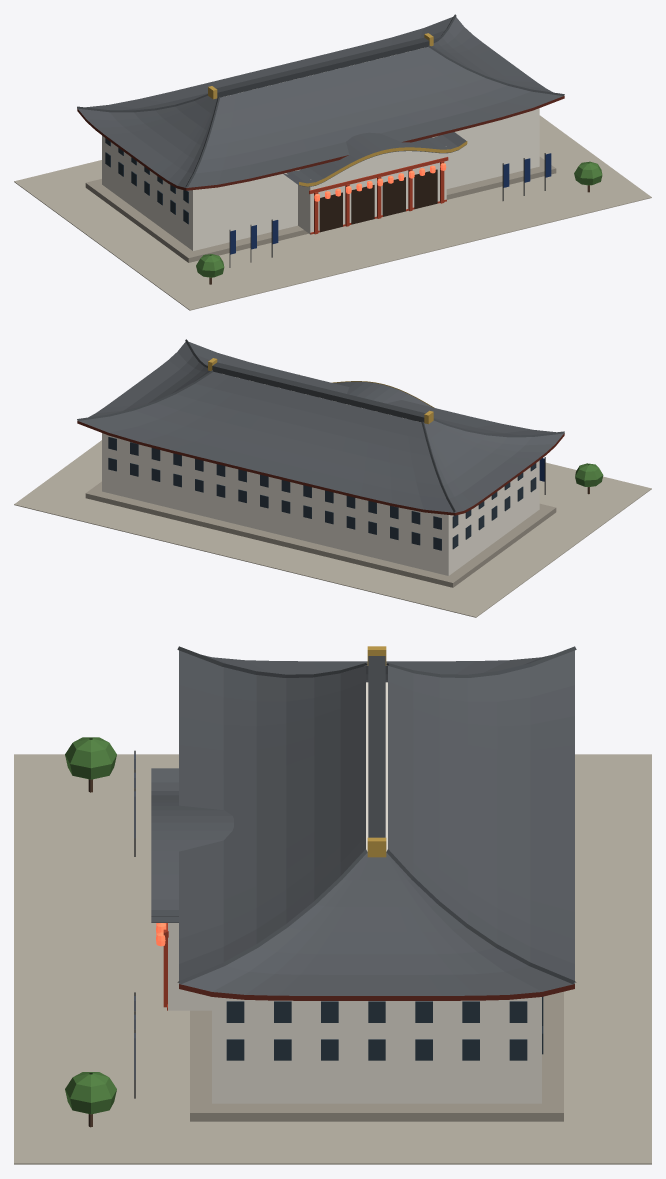
Rendered from kabukiza.glb.
The picture shows the model from 3 angles, top to bottom: view 1: azimuth 30°, elevation 25°; view 2: azimuth 150°, elevation 25°; view 3: azimuth 270°, elevation 25°; orthographic projection. The views are drawn at different scales.
Visible parts, largest first — view 1: Kabukiza_static; view 2: Kabukiza_static; view 3: Kabukiza_static.
Part boxes in pixels (x1,y1,x2,y2): Kabukiza_static: (14,14,651,310); Kabukiza_static: (14,339,651,617); Kabukiza_static: (14,646,651,1164).
Bounding box in the file's own units: 88 × 21.7 × 58.
